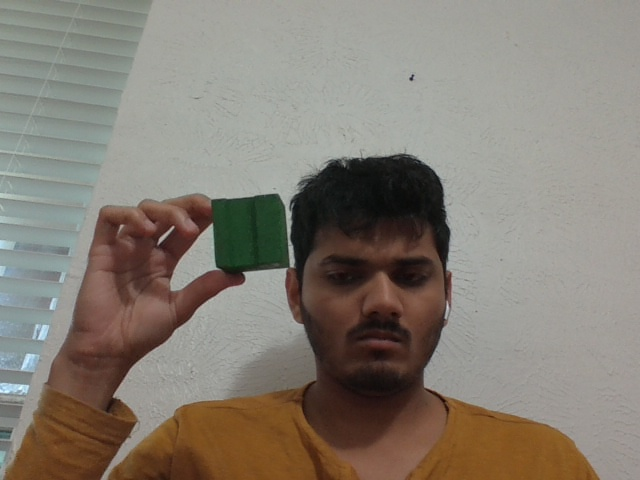GreenBlock: (211, 195, 292, 272)
